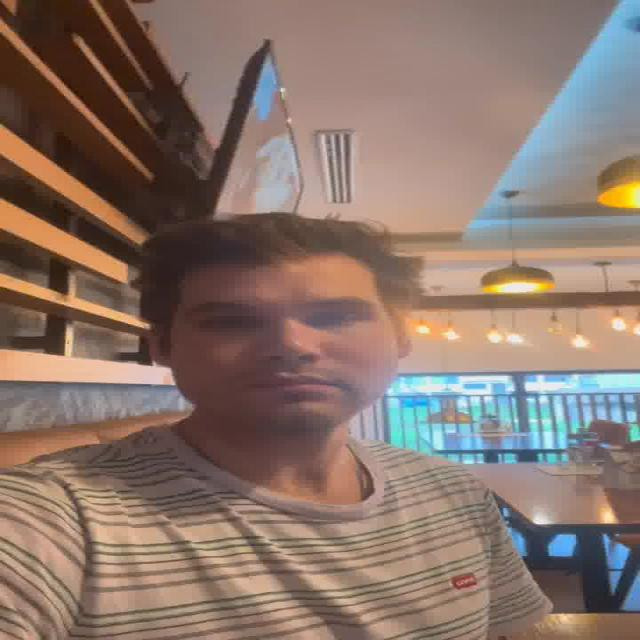earlobe: (154, 354, 172, 368), (397, 346, 412, 359)
eye: (312, 312, 360, 326), (200, 316, 251, 329)
nose: (262, 353, 324, 375)
wholeear: (392, 310, 412, 359), (150, 328, 172, 368)
